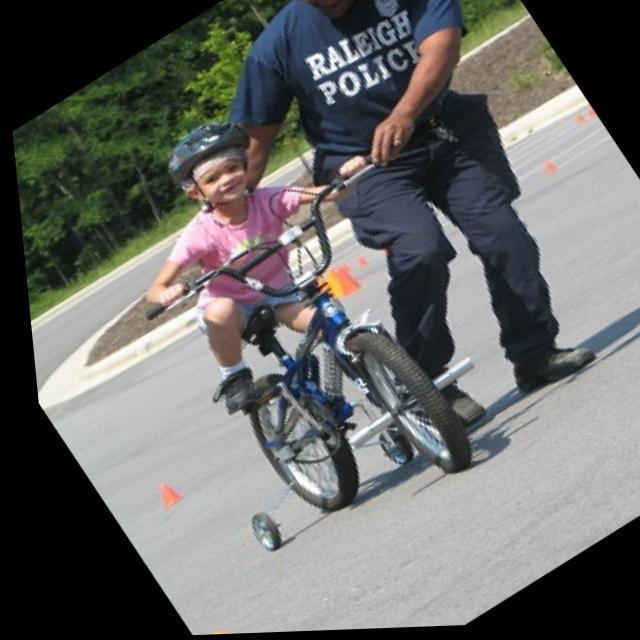Helmet: (157, 114, 257, 212)
